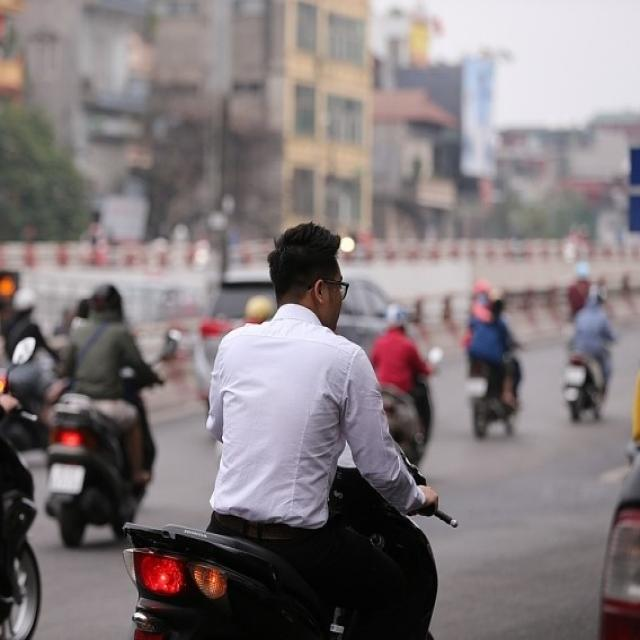Nonhelmet: (261, 212, 350, 334)
